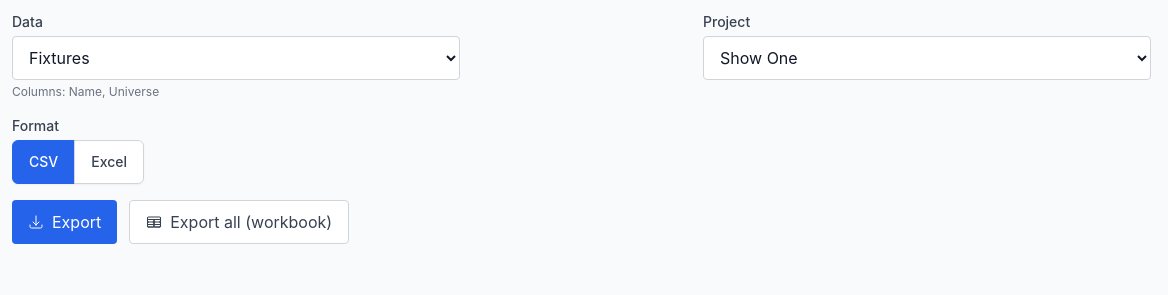
Test: DataExportPanel › exports the whole project as a workbook
The width and height of the screenshot is (1168, 295).
Expected: the dropdown labelled "Data" is shown, x1=12 y1=36 x2=460 y2=80
Step 1. Click the button "Export all (workbook)" → (239, 222), box x1=129 y1=200 x2=349 y2=244
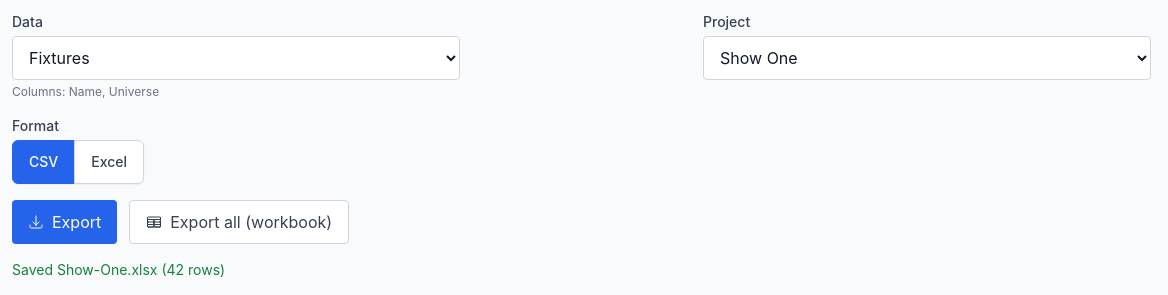
Result: the text with test id "data-export-result" reads "Saved Show-One.xlsx (42 rows)" at x1=12 y1=261 x2=225 y2=278
